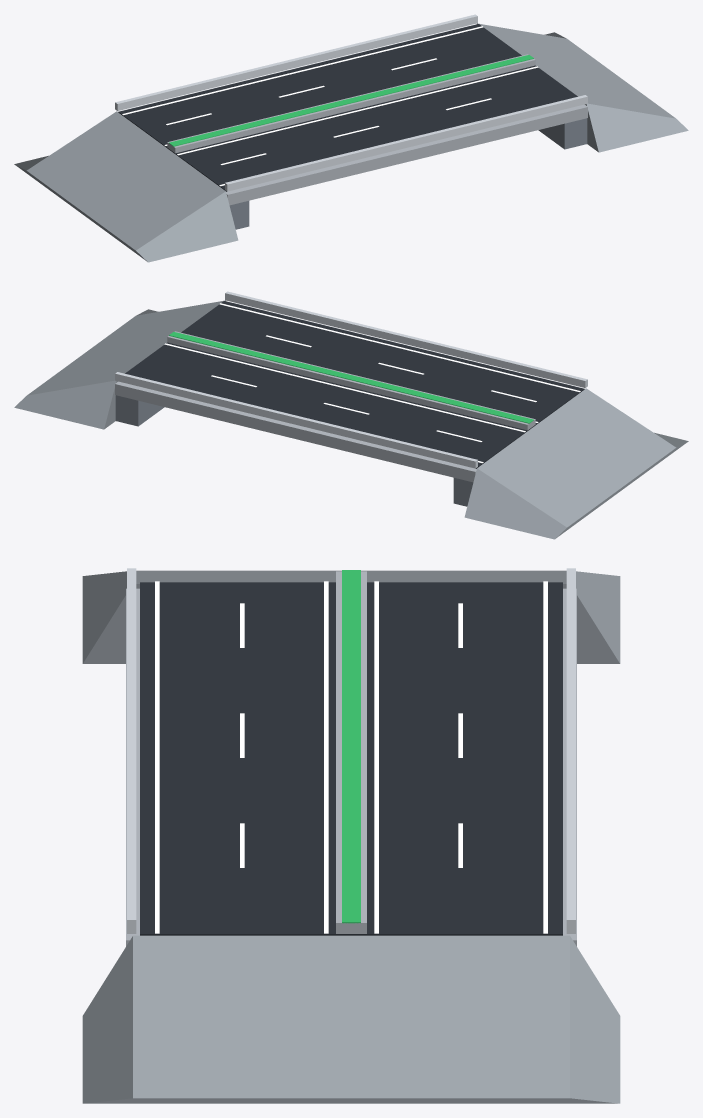
Rendered from bridge-small.glb.
3 views of the same model, one above another, from view 1: azimuth 30°, elevation 25°; view 2: azimuth 150°, elevation 25°; view 3: azimuth 270°, elevation 25° (orthographic). The views are drawn at different scales.
Parts seen in each view (by area): view 1: BridgeAsphalt, ApproachL, ApproachR, BridgeSlab, Deck_RailR, Deck_RailL, Deck_MedianCurb, Deck_MedianGreen, AbutmentR, Deck_SolidLine_3, Deck_SolidLine_1, Deck_DashedLines (+1 smaller); view 2: BridgeAsphalt, ApproachL, ApproachR, BridgeSlab, Deck_RailL, Deck_RailR, Deck_MedianCurb, Deck_MedianGreen, AbutmentR, Deck_SolidLine_0, Deck_SolidLine_2, Deck_DashedLines (+1 smaller); view 3: BridgeAsphalt, ApproachR, ApproachL, Deck_MedianGreen, Deck_MedianCurb, Deck_RailL, Deck_RailR, BridgeSlab, Deck_SolidLine_0, Deck_SolidLine_1, Deck_SolidLine_2, Deck_SolidLine_3 (+1 smaller).
Boxes of the visible parts, x1,y1,x2,y2 form: BridgeAsphalt: [118, 24, 577, 191]; ApproachL: [14, 111, 238, 262]; ApproachR: [477, 23, 688, 152]; BridgeSlab: [117, 24, 587, 205]; Deck_RailR: [225, 95, 587, 191]; Deck_RailL: [115, 14, 477, 110]; Deck_MedianCurb: [167, 54, 535, 153]; Deck_MedianGreen: [169, 55, 533, 146]; AbutmentR: [538, 118, 587, 149]; Deck_SolidLine_3: [122, 26, 483, 115]; Deck_SolidLine_1: [177, 66, 538, 155]; Deck_DashedLines: [166, 58, 491, 164]; BridgeAsphalt: [125, 301, 584, 468]; ApproachL: [464, 388, 688, 539]; ApproachR: [14, 300, 225, 429]; BridgeSlab: [115, 301, 585, 482]; Deck_RailL: [115, 372, 477, 468]; Deck_RailR: [225, 291, 587, 387]; Deck_MedianCurb: [167, 331, 535, 430]; Deck_MedianGreen: [169, 332, 533, 423]; AbutmentR: [115, 395, 164, 426]; Deck_SolidLine_0: [219, 303, 580, 392]; Deck_SolidLine_2: [164, 343, 525, 432]; Deck_DashedLines: [211, 335, 536, 441]; BridgeAsphalt: [140, 582, 562, 935]; ApproachR: [82, 935, 620, 1103]; ApproachL: [82, 570, 620, 663]; Deck_MedianGreen: [342, 570, 360, 923]; Deck_MedianCurb: [336, 571, 366, 933]; Deck_RailL: [566, 568, 575, 933]; Deck_RailR: [127, 568, 136, 933]; BridgeSlab: [126, 588, 576, 946]; Deck_SolidLine_0: [155, 581, 159, 933]; Deck_SolidLine_1: [324, 581, 328, 933]; Deck_SolidLine_2: [374, 581, 378, 933]; Deck_SolidLine_3: [543, 581, 547, 933].
Bounding box in the file's own units: 72 × 6.1 × 31.
